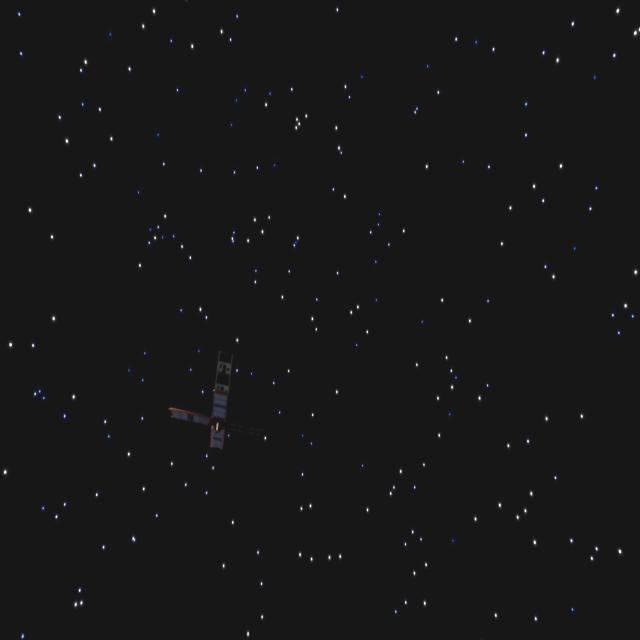medium_debris: (166, 350, 246, 454)
